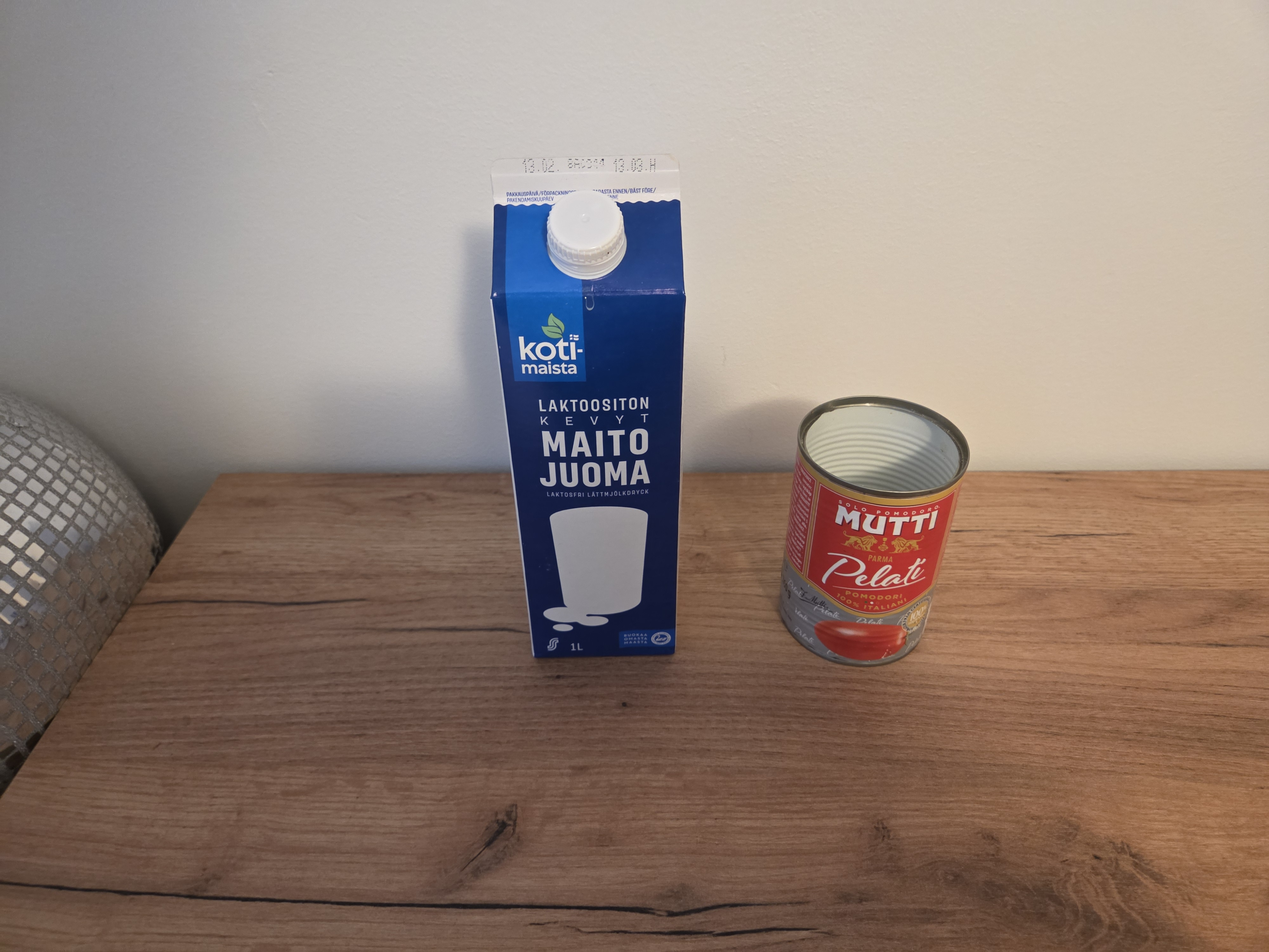Dryckeskartong: (491, 150, 688, 660)
Konservburk: (778, 397, 970, 666)
